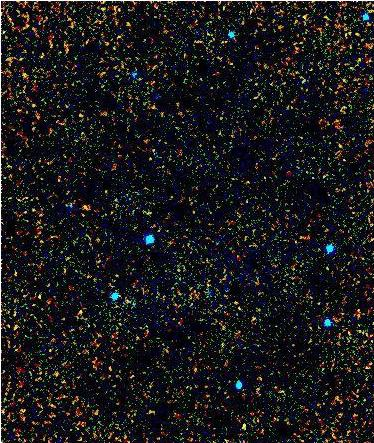star: (70, 193, 100, 223)
